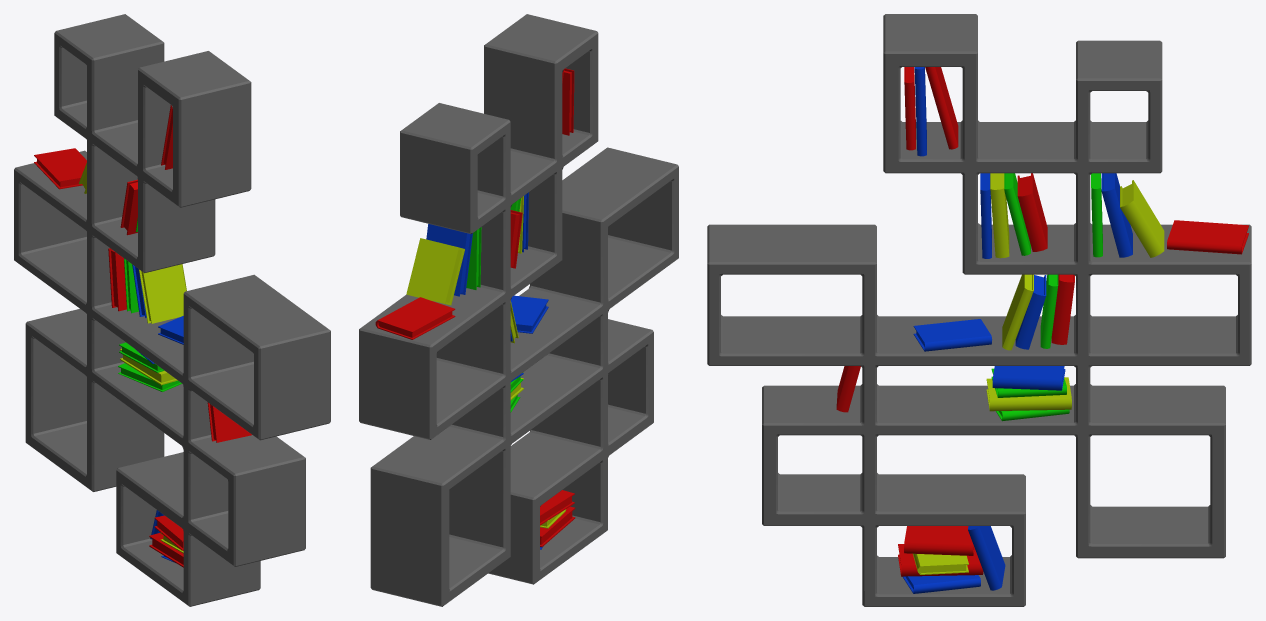
Rendered from bookshelf.FBX.
The picture shows the model from 3 angles, left to right: view 1: azimuth 30°, elevation 25°; view 2: azimuth 150°, elevation 25°; view 3: azimuth 270°, elevation 25°; orthographic projection. The views are drawn at different scales.
Visible parts, largest first — view 1: book_shelf; view 2: book_shelf; view 3: book_shelf.
Boxes of the visible parts, left/top/right/bottom form: book_shelf: left=14, top=14, right=330, bottom=606; book_shelf: left=359, top=14, right=678, bottom=606; book_shelf: left=707, top=14, right=1251, bottom=606.
Bounding box in the file's own units: 4.94 × 28.23 × 31.78.
